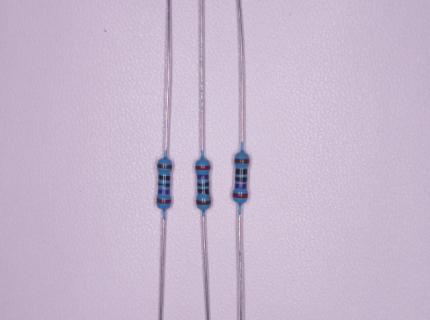Black band: (198, 189, 209, 195), (235, 169, 248, 174), (235, 177, 247, 182), (197, 182, 209, 187), (159, 175, 170, 180), (158, 183, 170, 187)
Brown band: (234, 158, 249, 164), (196, 200, 211, 205), (157, 164, 172, 168)
Red band: (157, 198, 171, 204), (233, 193, 248, 198), (196, 166, 210, 170)
Violet band: (235, 183, 247, 189), (158, 189, 170, 194), (197, 174, 209, 179)
